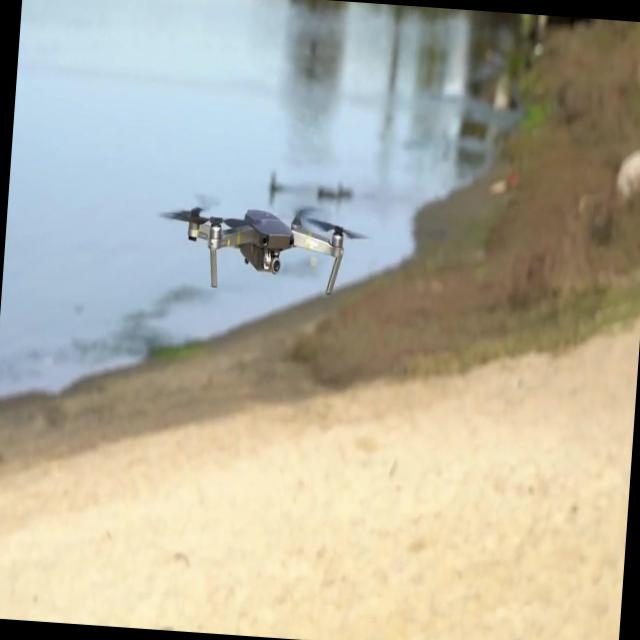drone: (158, 194, 372, 298)
